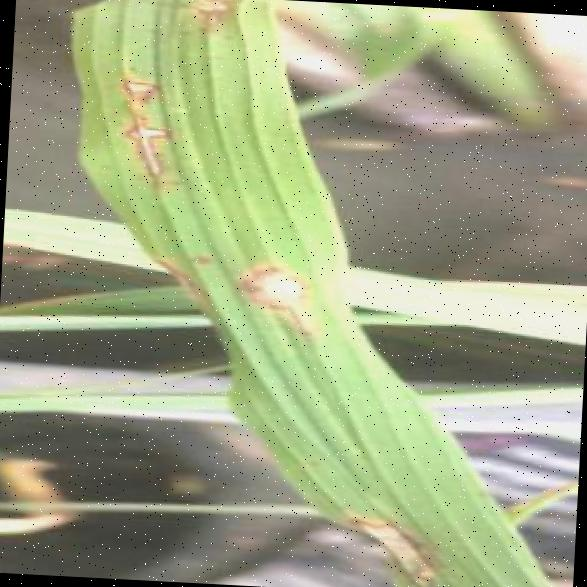Leaf_smut: (228, 226, 334, 352), (124, 232, 254, 332), (324, 487, 443, 587), (85, 52, 198, 132), (109, 104, 196, 182), (178, 0, 248, 32)
